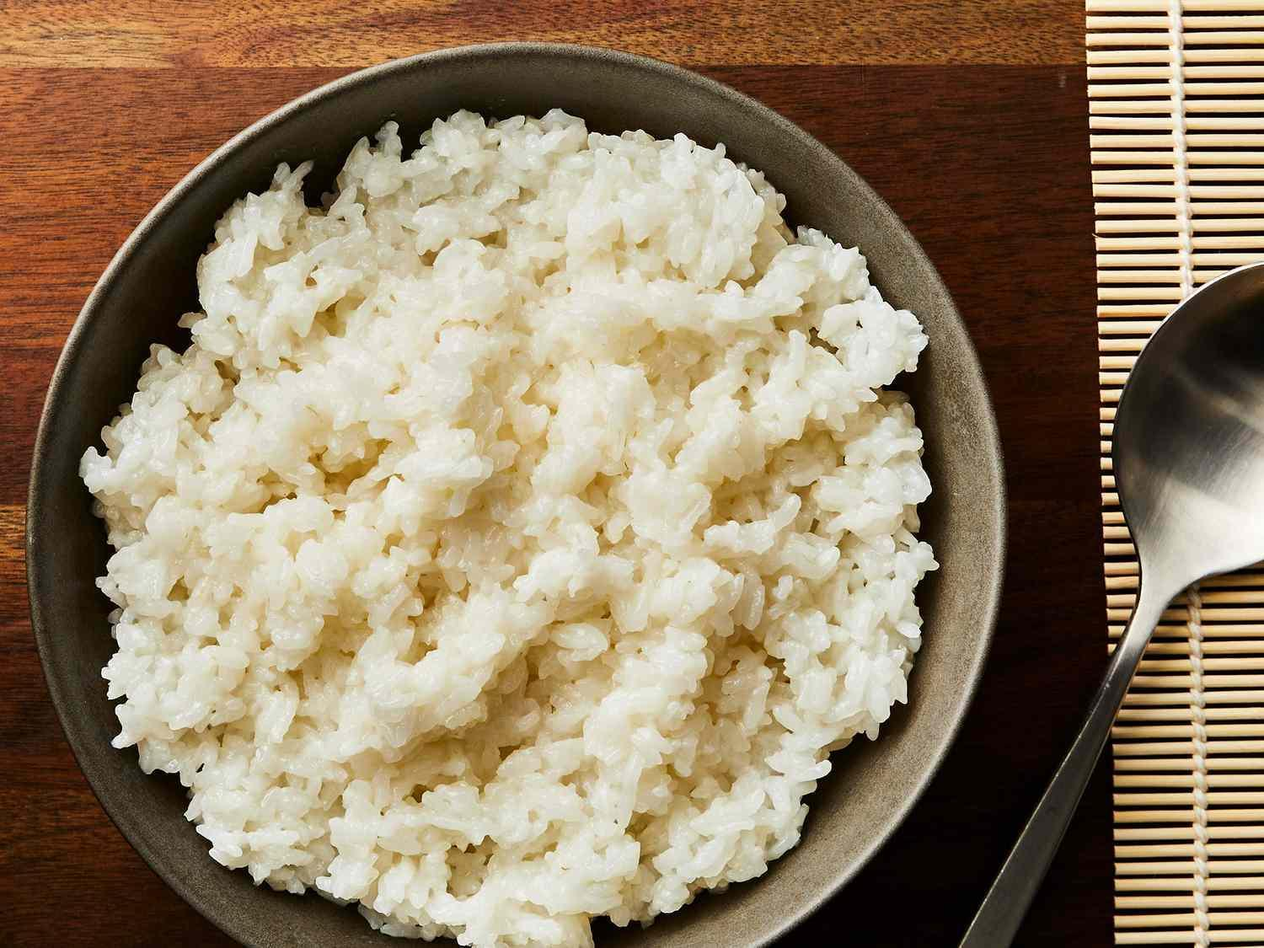rice: (84, 105, 945, 947)
